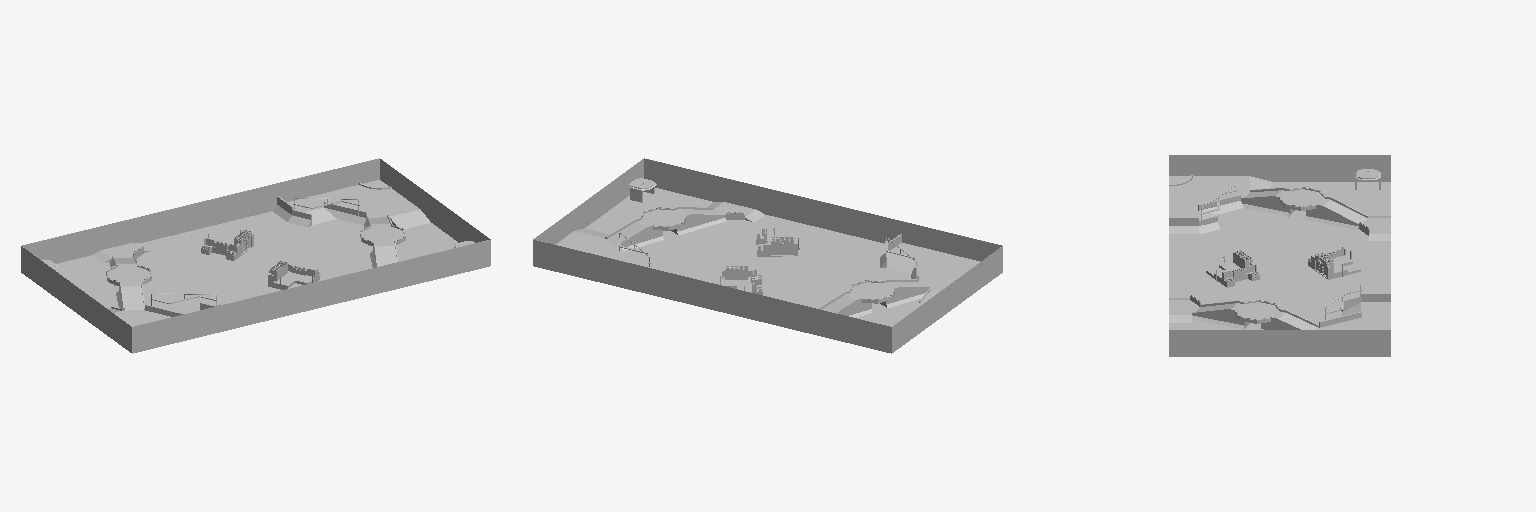
File: map1.obj
The picture shows the model from 3 angles: view 1: azimuth 30°, elevation 25°; view 2: azimuth 150°, elevation 25°; view 3: azimuth 270°, elevation 25°; orthographic projection.
Parts seen in each view (by area): view 1: RM场地总装; view 2: RM场地总装; view 3: RM场地总装.
Part boxes in pixels (x1,y1,x2,y2): RM场地总装: (21, 158, 490, 353); RM场地总装: (533, 158, 1002, 353); RM场地总装: (1169, 155, 1390, 356).
Size of the model in its own units: 280 by 20 by 150.